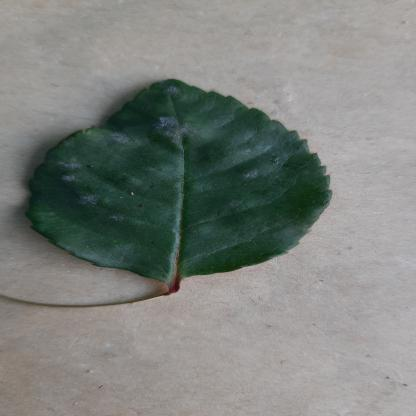powdery-mildew: (6, 78, 340, 284)
